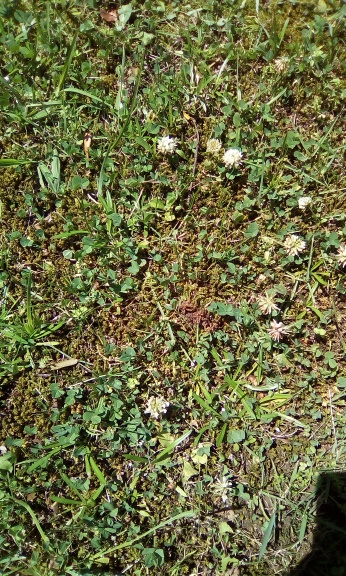4leaf: (217, 301, 234, 317)
